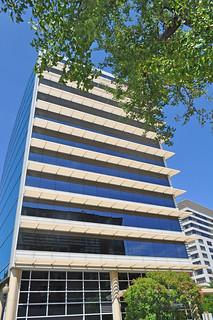building: (1, 48, 202, 320)
